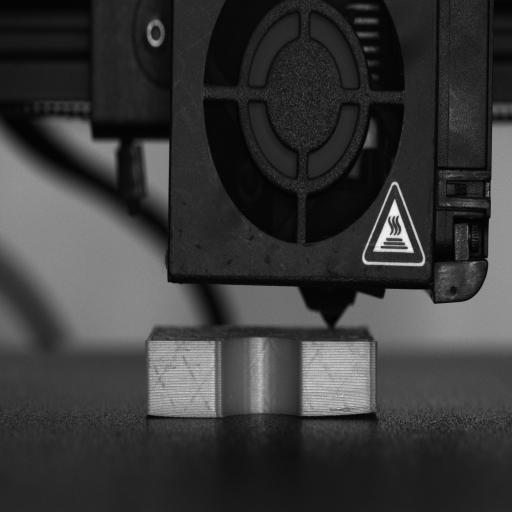warp: (348, 400, 380, 420)
